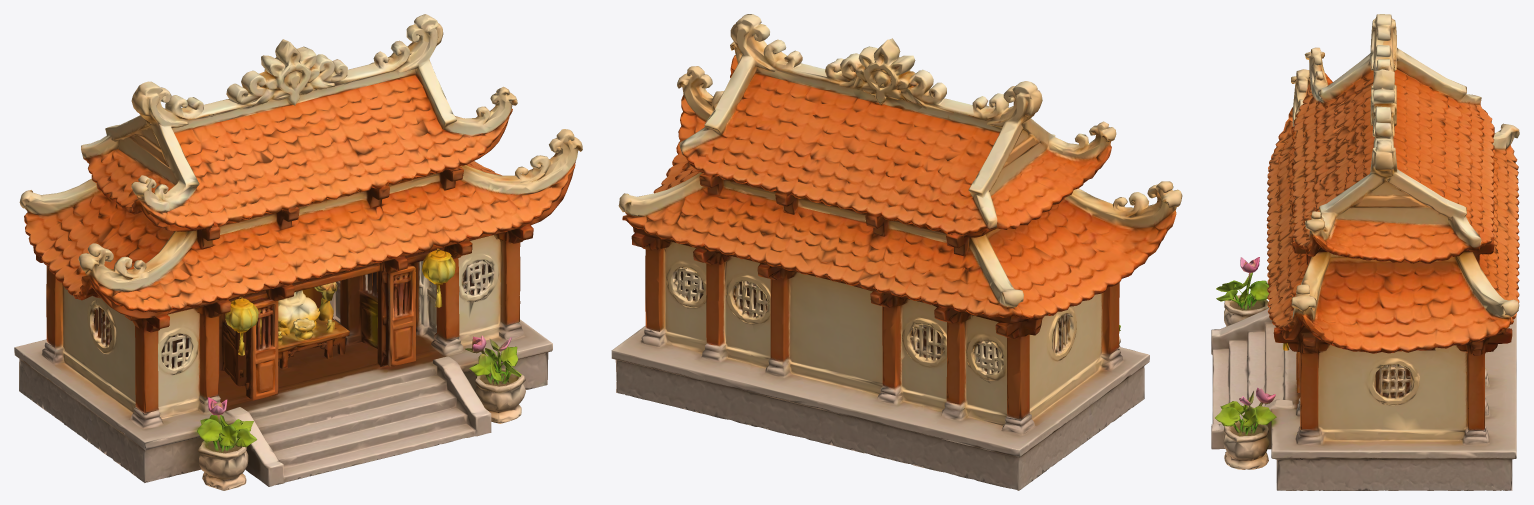
Rendered from temple.glb.
3 views of the same model, side by side, from view 1: azimuth 30°, elevation 25°; view 2: azimuth 150°, elevation 25°; view 3: azimuth 270°, elevation 25° (orthographic). The views are drawn at different scales.
Visible parts, largest first — view 1: tripo_node_89c2f29d-bb84-4108-a6ae-b33f5f57dde1; view 2: tripo_node_89c2f29d-bb84-4108-a6ae-b33f5f57dde1; view 3: tripo_node_89c2f29d-bb84-4108-a6ae-b33f5f57dde1.
Boxes of the visible parts, box(x1,y1,x2,y2) form: tripo_node_89c2f29d-bb84-4108-a6ae-b33f5f57dde1: box(14, 14, 582, 490); tripo_node_89c2f29d-bb84-4108-a6ae-b33f5f57dde1: box(611, 14, 1182, 490); tripo_node_89c2f29d-bb84-4108-a6ae-b33f5f57dde1: box(1211, 14, 1519, 490).
Size of the model in its own units: 0.9783 by 0.6576 by 0.5583.
1 material, 1 textured.
